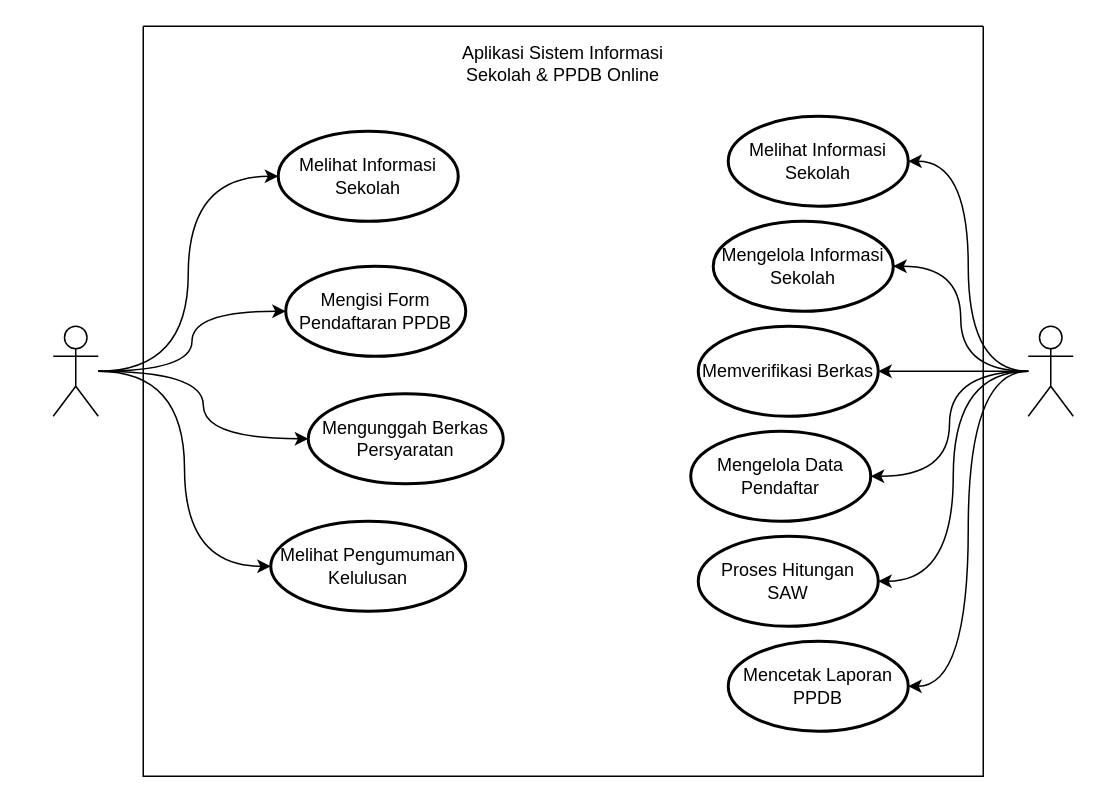
This 1103x803 diagram has some shape labels left out. Here are the shapes that lost their labels. From the top down, the centre of each, then its label:
the point at 75,370: Calon Siswa Baru
the point at 1050,370: Admin
